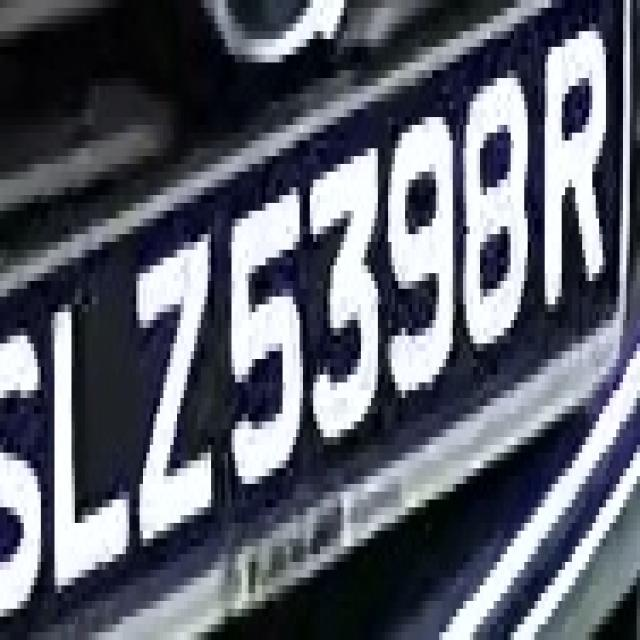3: (283, 140, 392, 484)
5: (215, 172, 316, 499)
8: (453, 78, 538, 382)
9: (381, 110, 463, 430)
L: (44, 273, 140, 593)
R: (538, 8, 623, 320)
S: (10, 273, 44, 632)
Z: (119, 234, 225, 578)
